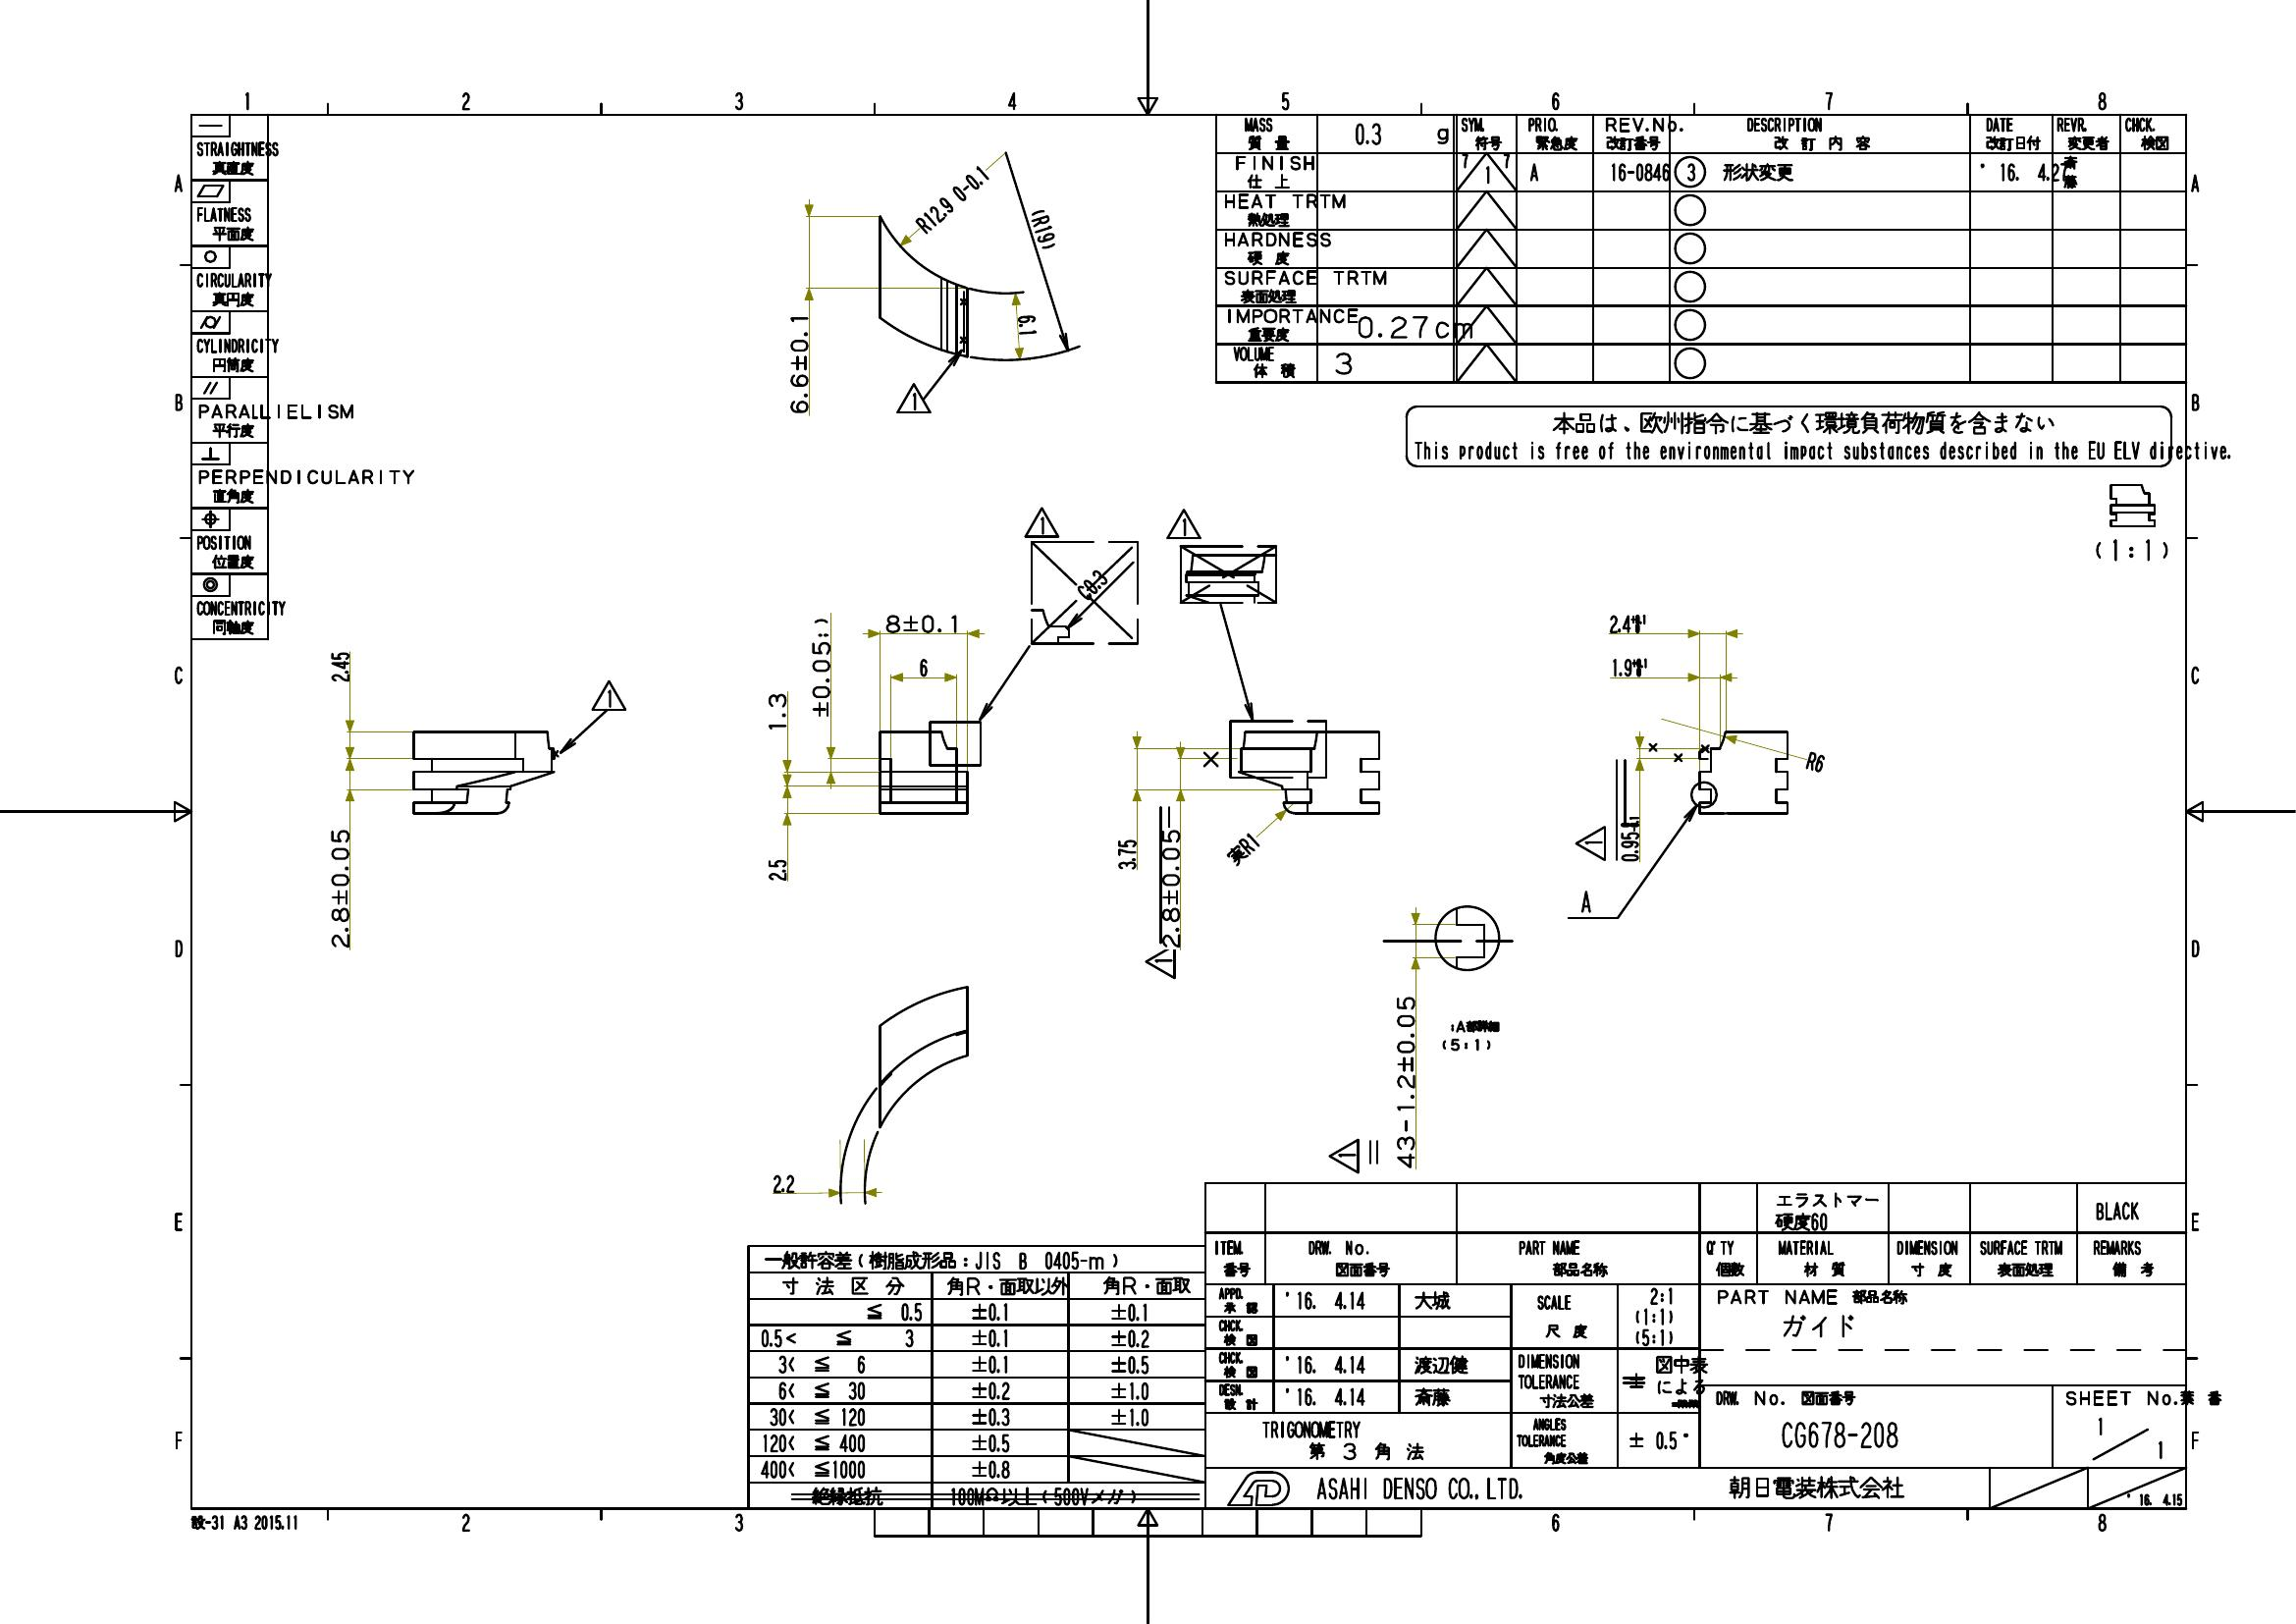anntotation_text: (1404, 404, 2233, 466), (2092, 534, 2170, 564), (1325, 1137, 1363, 1176), (1163, 506, 1203, 540), (1572, 824, 1607, 861), (588, 680, 627, 714), (1022, 506, 1061, 540), (894, 381, 931, 415), (1145, 947, 1177, 981), (1449, 1018, 1500, 1035), (1440, 1035, 1491, 1053), (1579, 888, 1592, 916)
dimension_text: (1393, 993, 1416, 1169), (327, 826, 350, 949), (1159, 828, 1180, 949), (787, 313, 810, 417), (808, 617, 831, 719), (905, 190, 998, 211), (882, 612, 959, 634), (1620, 816, 1641, 863), (1022, 218, 1066, 239), (764, 691, 787, 731), (1607, 612, 1648, 633), (1609, 656, 1648, 677), (1116, 837, 1137, 874), (1223, 838, 1260, 859), (329, 649, 350, 684), (769, 1171, 796, 1193), (766, 856, 787, 882), (1017, 311, 1036, 336), (1806, 750, 1825, 773), (917, 657, 929, 677)
object: (875, 984, 971, 1127), (878, 213, 971, 359), (408, 728, 555, 817), (1240, 729, 1381, 816), (878, 729, 970, 817), (1695, 729, 1788, 816), (1184, 552, 1275, 603), (1433, 907, 1486, 970), (2108, 482, 2157, 529), (1028, 608, 1070, 643)
title_block: (745, 1181, 2189, 1512), (1214, 112, 2189, 387), (188, 111, 271, 642)
